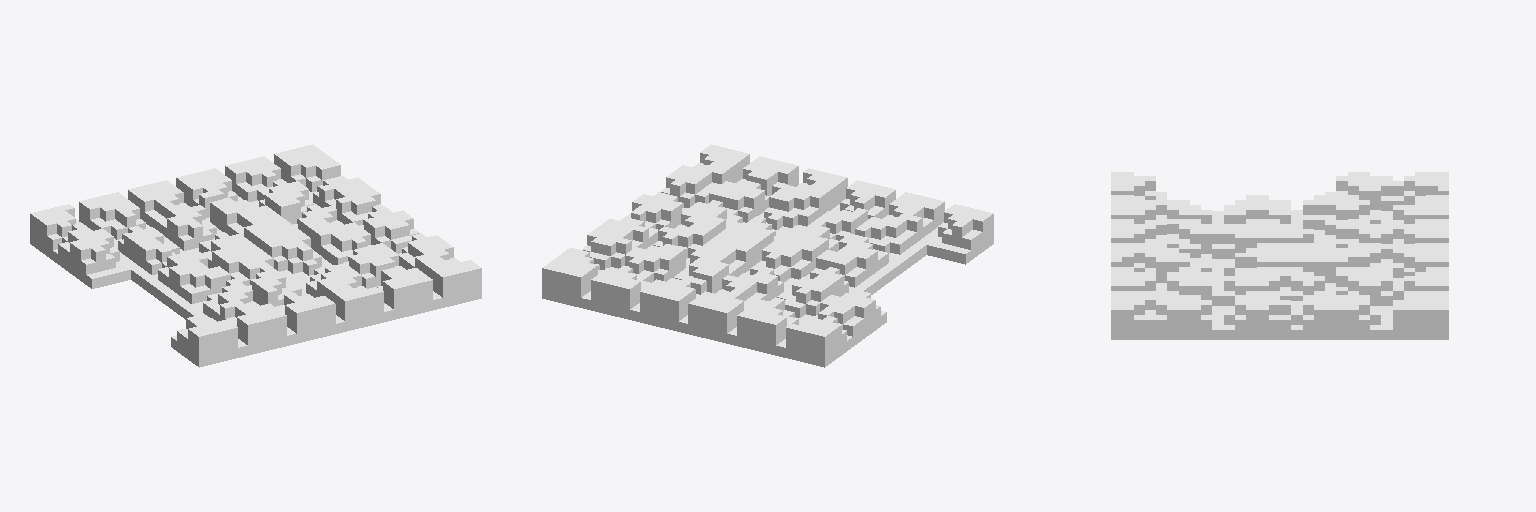
Rendered from DamagedBrickWallExterior.obj.
The picture shows the model from 3 angles: view 1: azimuth 30°, elevation 25°; view 2: azimuth 150°, elevation 25°; view 3: azimuth 270°, elevation 25°; orthographic projection.
Visible parts, largest first — view 1: object 1; view 2: object 1; view 3: object 1.
Boxes of the visible parts, box(x1,y1,x2,y2) form: object 1: box(30, 144, 481, 367); object 1: box(542, 144, 993, 367); object 1: box(1111, 172, 1448, 339).
Bounding box in the file's own units: 2.9 × 0.3 × 3.